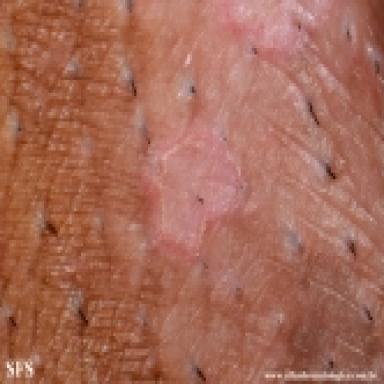Porokeratosis: (157, 120, 244, 257), (218, 0, 333, 53)
